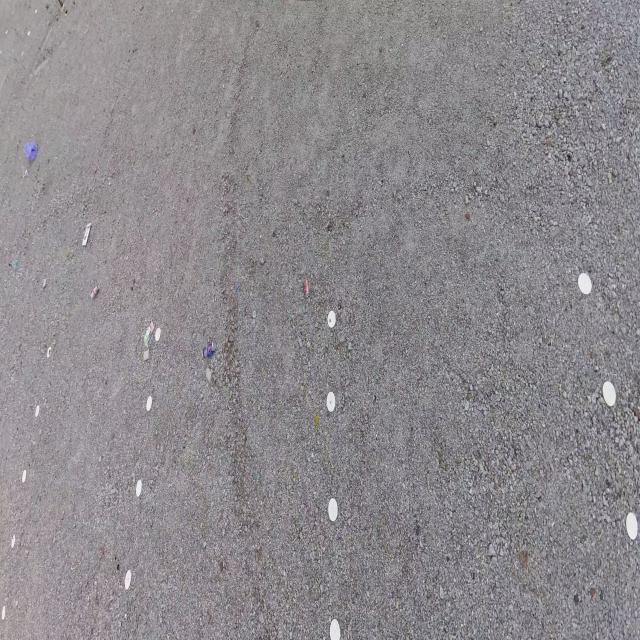rubbish: (143, 320, 154, 349), (81, 222, 92, 246), (203, 339, 216, 359), (89, 283, 100, 302), (57, 0, 68, 16), (303, 279, 310, 298), (205, 368, 212, 385), (10, 259, 19, 272), (143, 349, 150, 362), (42, 278, 46, 289)
